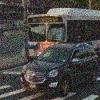buses: (20, 6, 100, 64)
